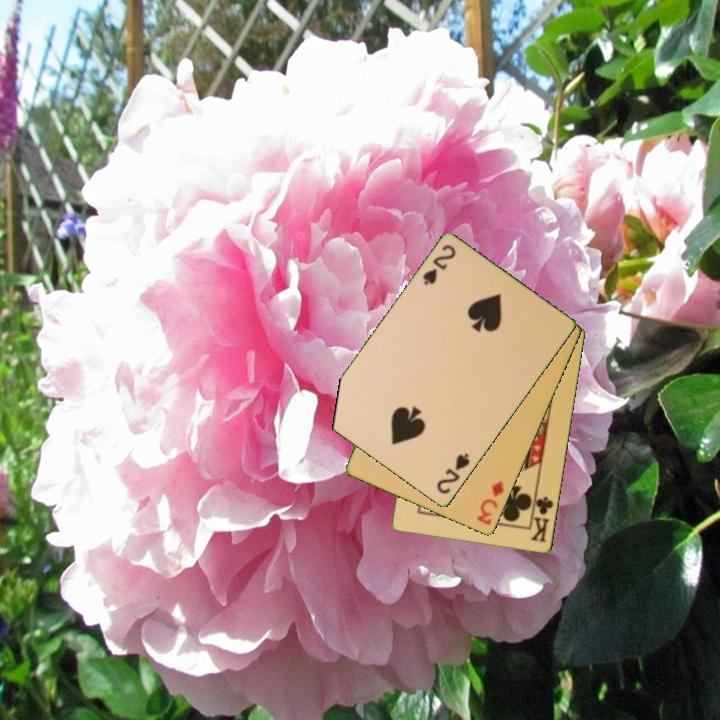2s: (433, 450, 473, 498), (419, 241, 459, 289)
3d: (474, 478, 507, 528)
Kc: (528, 489, 556, 546)
